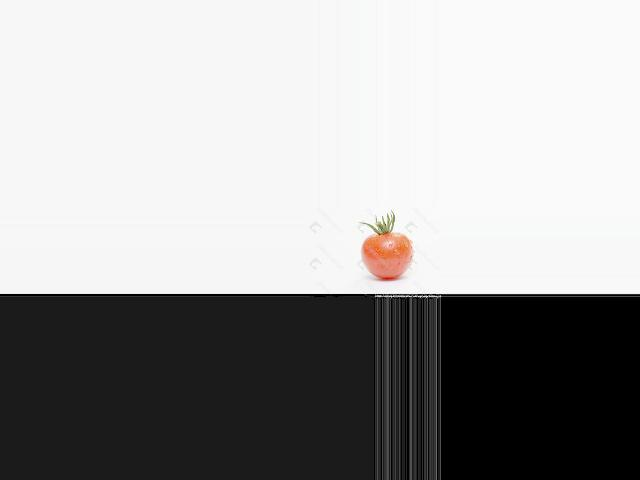tomato: (360, 233, 411, 279)
